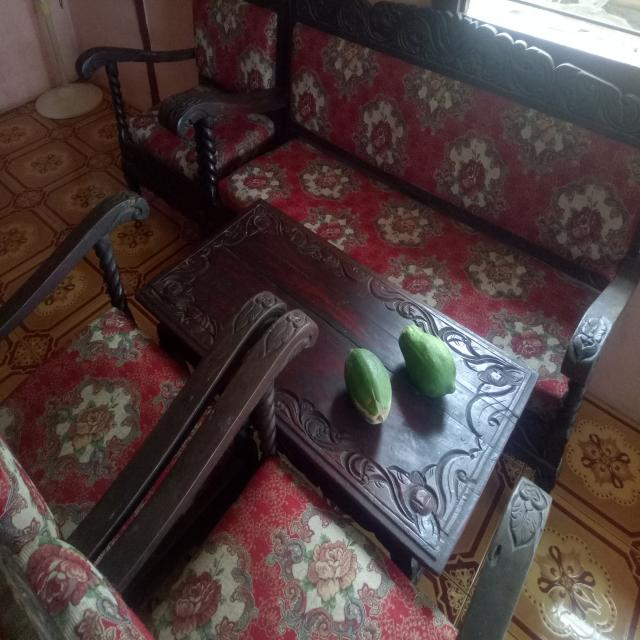Pepaya unrippen: (395, 320, 458, 404), (341, 342, 399, 431)
